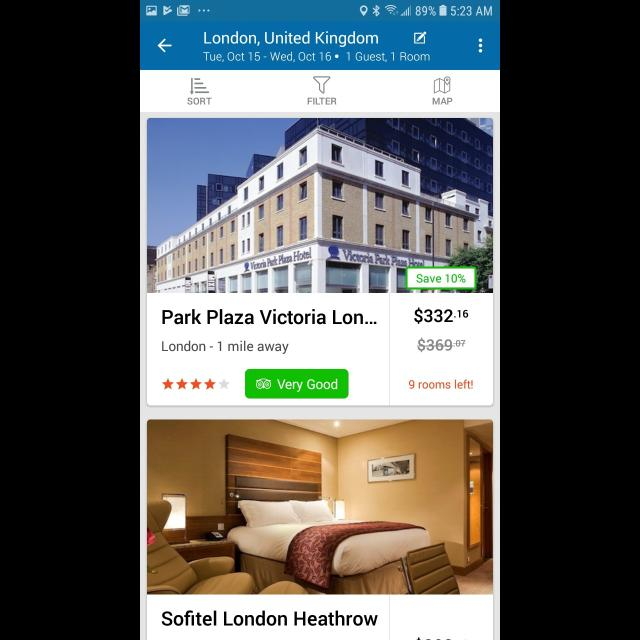icon: (162, 378, 230, 390), (190, 78, 210, 95), (434, 76, 451, 94), (158, 38, 172, 54), (414, 32, 426, 44), (478, 37, 482, 53)
image: (147, 119, 493, 294), (147, 420, 493, 594), (313, 77, 331, 95)
text: (162, 610, 378, 626), (163, 309, 377, 325), (204, 32, 378, 48), (202, 52, 430, 64), (162, 341, 290, 355), (414, 308, 468, 324), (408, 378, 474, 389), (416, 338, 466, 352), (188, 98, 212, 106), (308, 98, 337, 104), (433, 98, 453, 104)
textbutton: (245, 369, 349, 399)
uppertaskbar: (140, 1, 500, 22)
